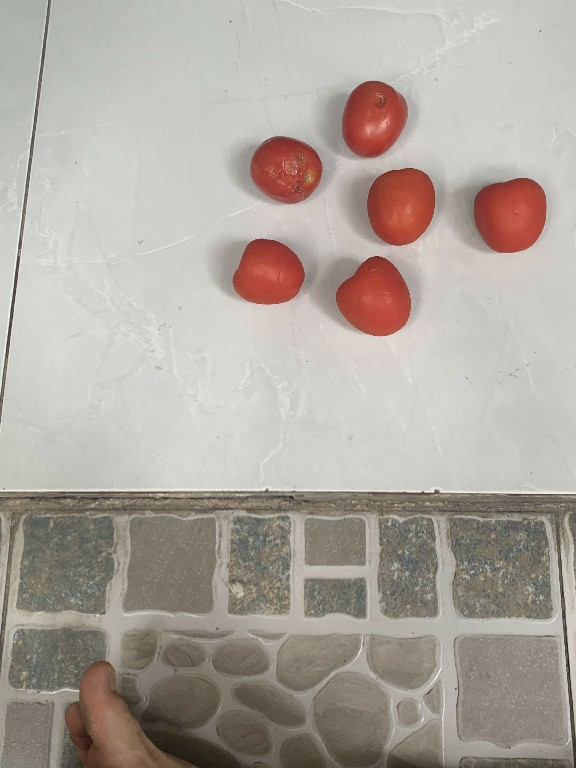NG: (245, 131, 326, 205), (338, 78, 410, 160)
OK: (463, 172, 551, 253), (360, 161, 441, 248), (333, 251, 412, 340), (232, 230, 308, 313)
